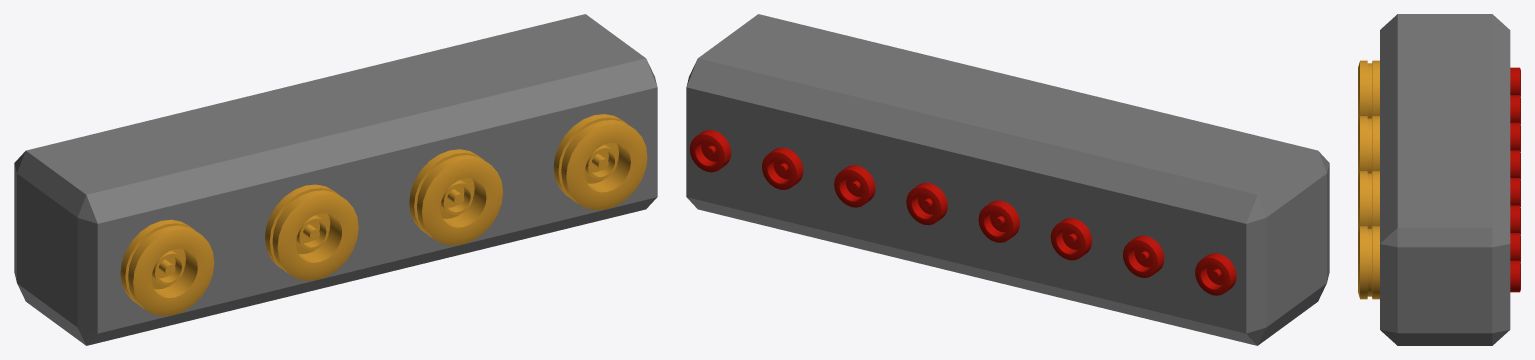
Rendered from PowerDistributor.gltf.
The picture shows the model from 3 angles, left to right: view 1: azimuth 30°, elevation 25°; view 2: azimuth 150°, elevation 25°; view 3: azimuth 270°, elevation 25°; orthographic projection. The views are drawn at different scales.
Parts seen in each view (by area): view 1: bar; view 2: bar; view 3: bar.
Part boxes in pixels (x1,y1,x2,y2): bar: (14, 14, 657, 345); bar: (686, 14, 1329, 345); bar: (1358, 14, 1520, 345).
Bounding box in the file's own units: 1 × 0.25 × 0.3121.
